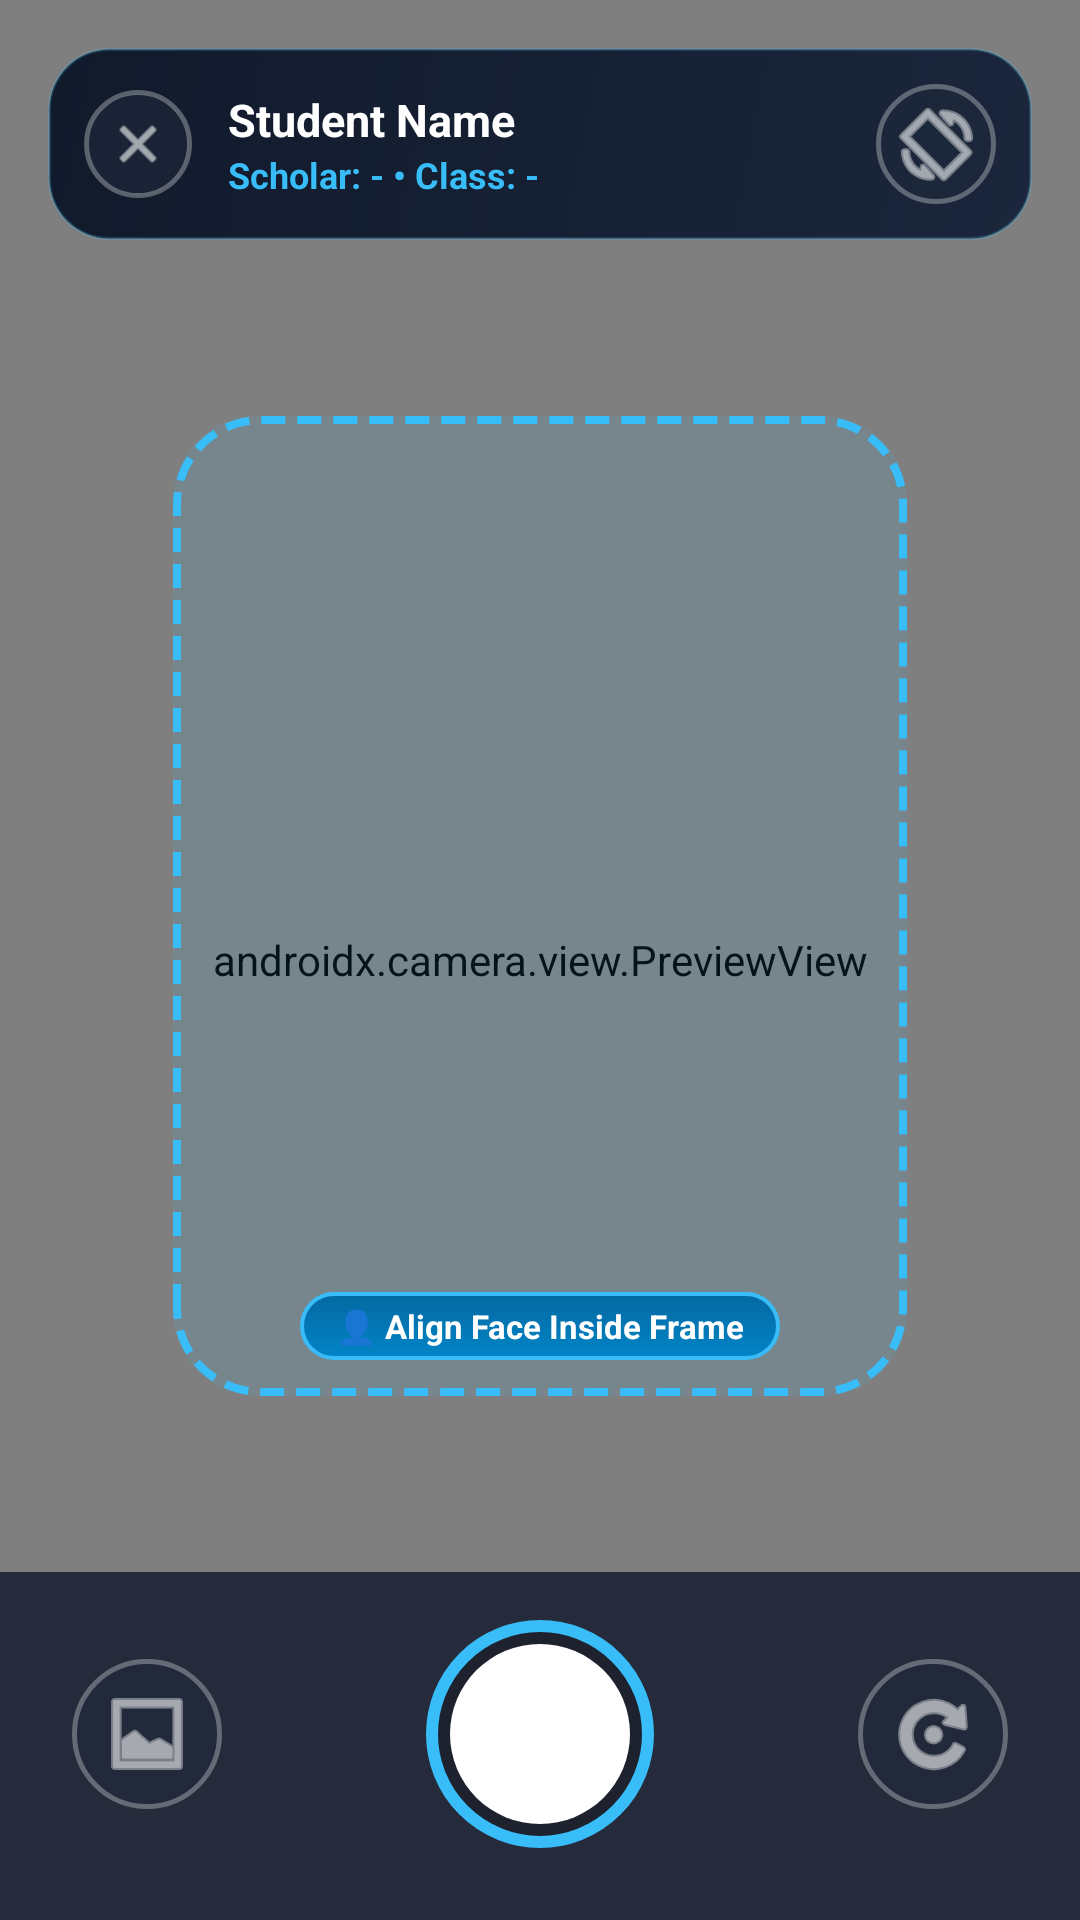

Point at icon controls on the screen. Image size 1080x1920, points as (x=x, y=y).
always landscape portrait: (x=936, y=144)
close clear cancel: (x=138, y=144)
gallery: (x=147, y=1734)
rotate: (x=933, y=1734)
